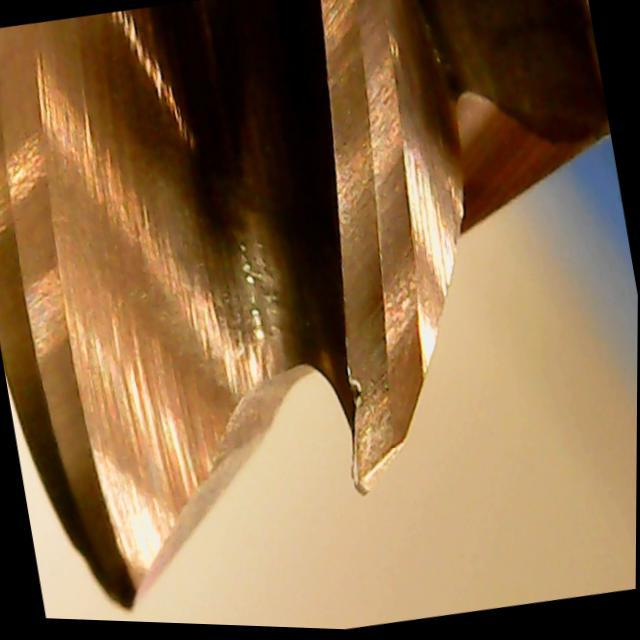Tool-wear-class-1: (296, 259, 461, 521)
